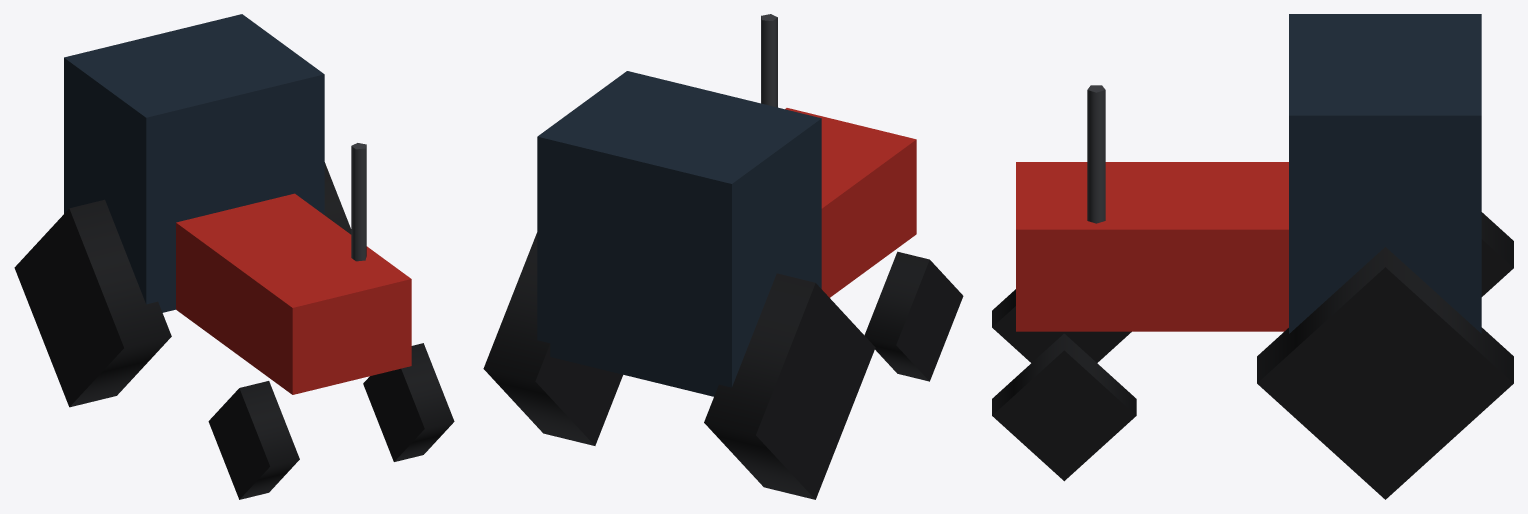
Rendered from veh_ground_tractor_a07_lod2.glb.
3 renders of one model, left to right at view 1: azimuth 30°, elevation 25°; view 2: azimuth 150°, elevation 25°; view 3: azimuth 270°, elevation 25°, orthographic. The views are drawn at different scales.
Parts seen in each view (by area): view 1: body, wheel_0, front_wheel_0, front_wheel_1, wheel_1; view 2: body, wheel_0, wheel_1, front_wheel_0; view 3: body, wheel_1, front_wheel_1, front_wheel_0, wheel_0.
Boxes of the visible parts, x1,y1,x2,y2 form: body: [64, 14, 411, 394]; wheel_0: [14, 199, 171, 407]; front_wheel_0: [208, 381, 299, 499]; front_wheel_1: [363, 343, 454, 461]; wheel_1: [324, 162, 351, 234]; body: [537, 14, 916, 396]; wheel_0: [704, 273, 875, 499]; wheel_1: [483, 232, 622, 445]; front_wheel_0: [864, 251, 963, 381]; body: [1016, 14, 1481, 333]; wheel_1: [1257, 247, 1513, 499]; front_wheel_1: [992, 333, 1136, 481]; front_wheel_0: [992, 289, 1131, 362]; wheel_0: [1481, 212, 1513, 296].
Size of the model in its own units: 2.1 by 2.5 by 3.25.
